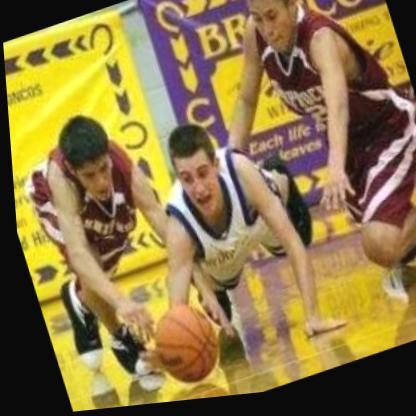basketball: (134, 292, 229, 401)
